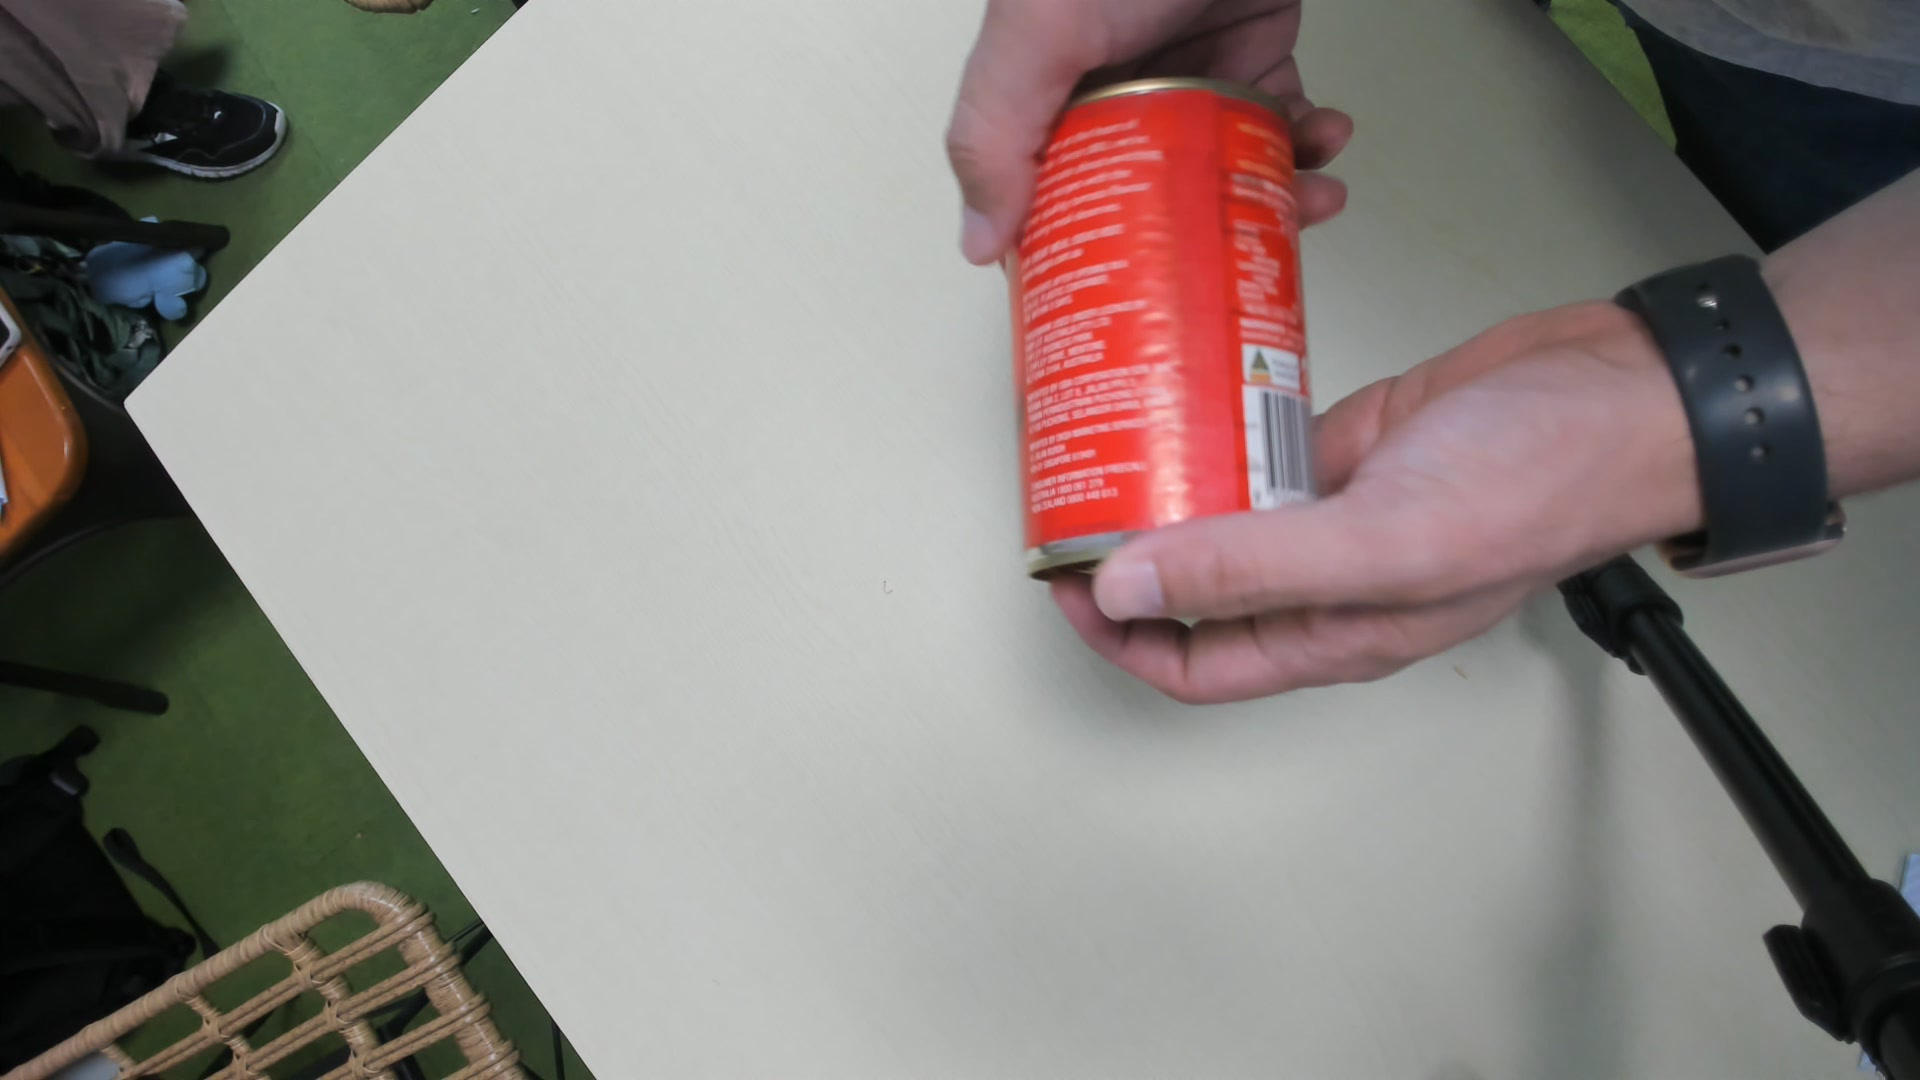OtherSauceDressingSoupbasePaste_400-499g_Halal_NonHealthy: (1005, 82, 1323, 571)
